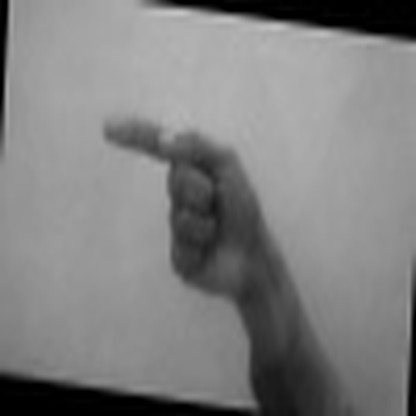g: (93, 104, 264, 298)
